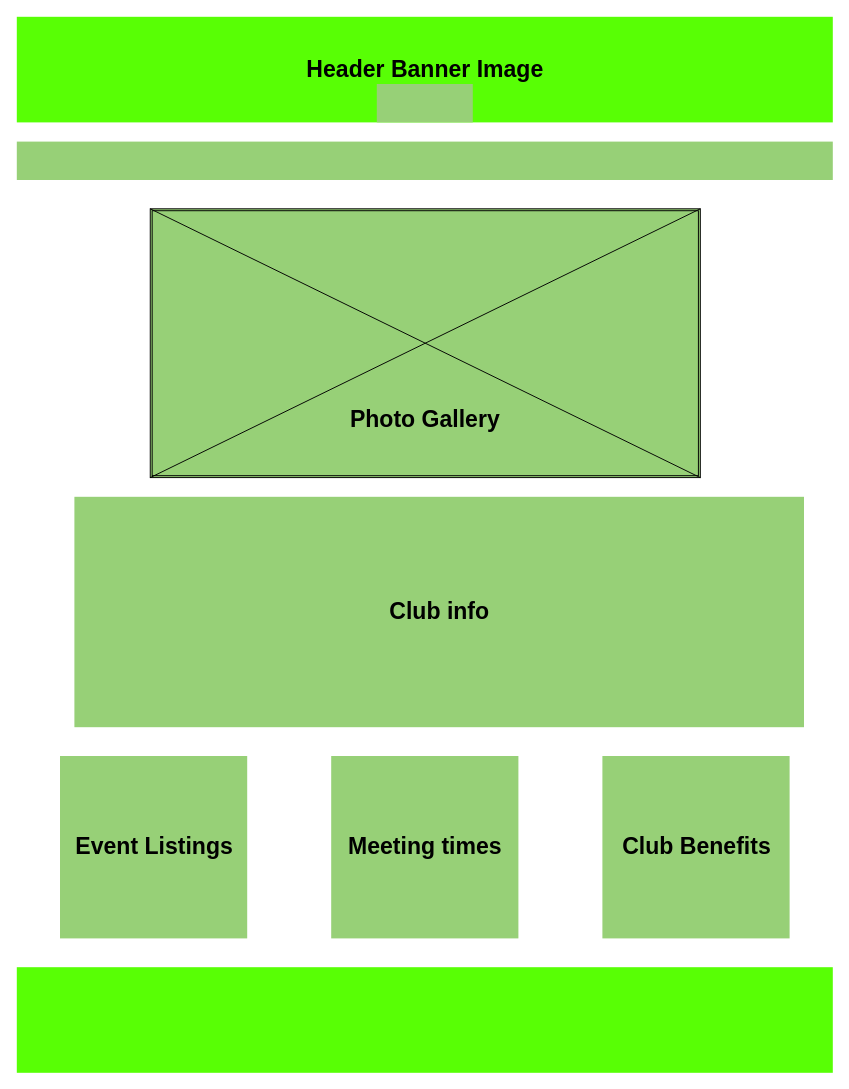
This 849x1089 diagram has some shape labels left out. Here are the shapes that lost their labels. From the top down, the centre of each, then its label:
point 424,103: Title
point 424,160: NAV bar
point 424,1019: Footer with form for sign up for club
